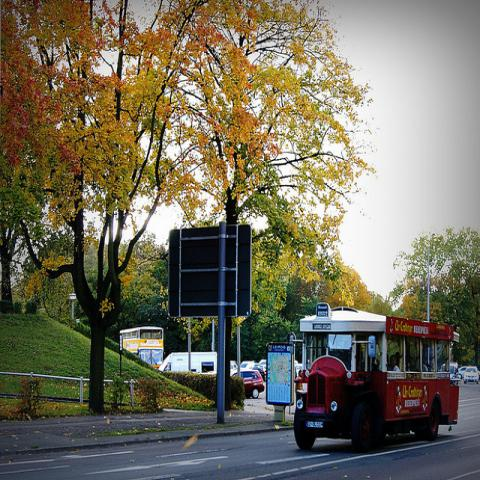bus: (294, 298, 461, 449), (120, 327, 164, 369)
car: (233, 370, 265, 398), (463, 366, 480, 384), (440, 363, 458, 379), (252, 365, 266, 382), (454, 365, 467, 379)
truck: (158, 352, 216, 372)
